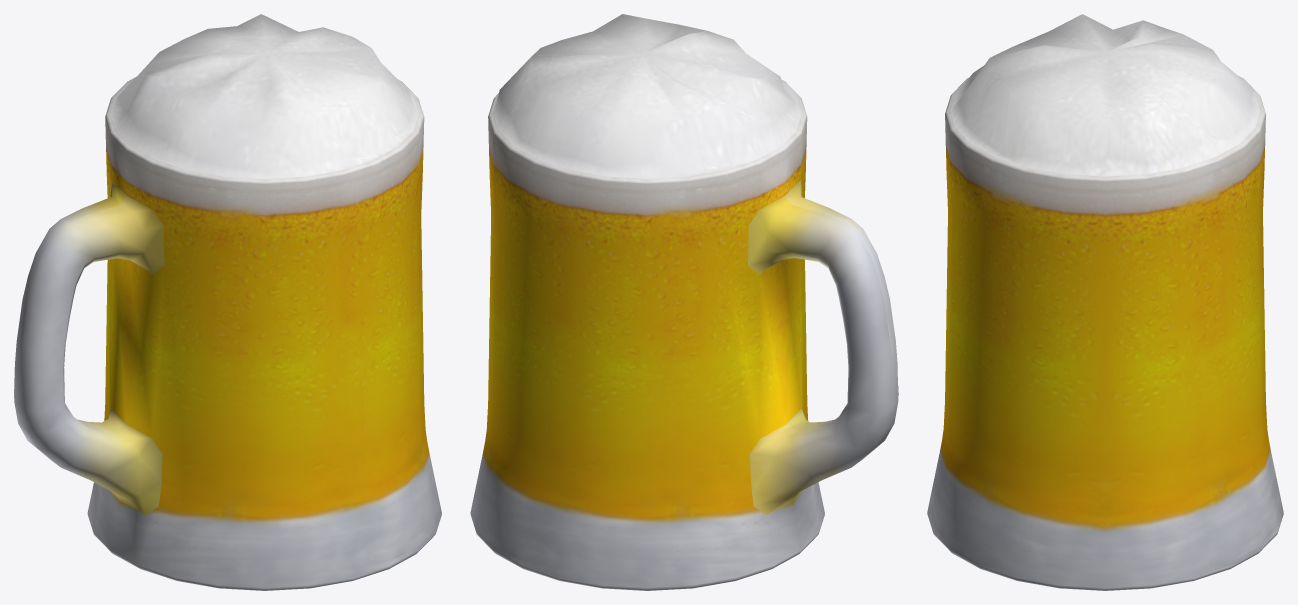
File: Beer01_2.FBX
3 renders of one model, left to right at view 1: azimuth 30°, elevation 25°; view 2: azimuth 150°, elevation 25°; view 3: azimuth 270°, elevation 25°, orthographic.
Parts seen in each view (by area): view 1: Beer01_2; view 2: Beer01_2; view 3: Beer01_2.
Boxes of the visible parts, x1,y1,x2,y2 form: Beer01_2: (14,14,441,590); Beer01_2: (470,14,898,590); Beer01_2: (927,14,1283,590).
Size of the model in its own units: 6.25 by 6.94 by 4.81.
